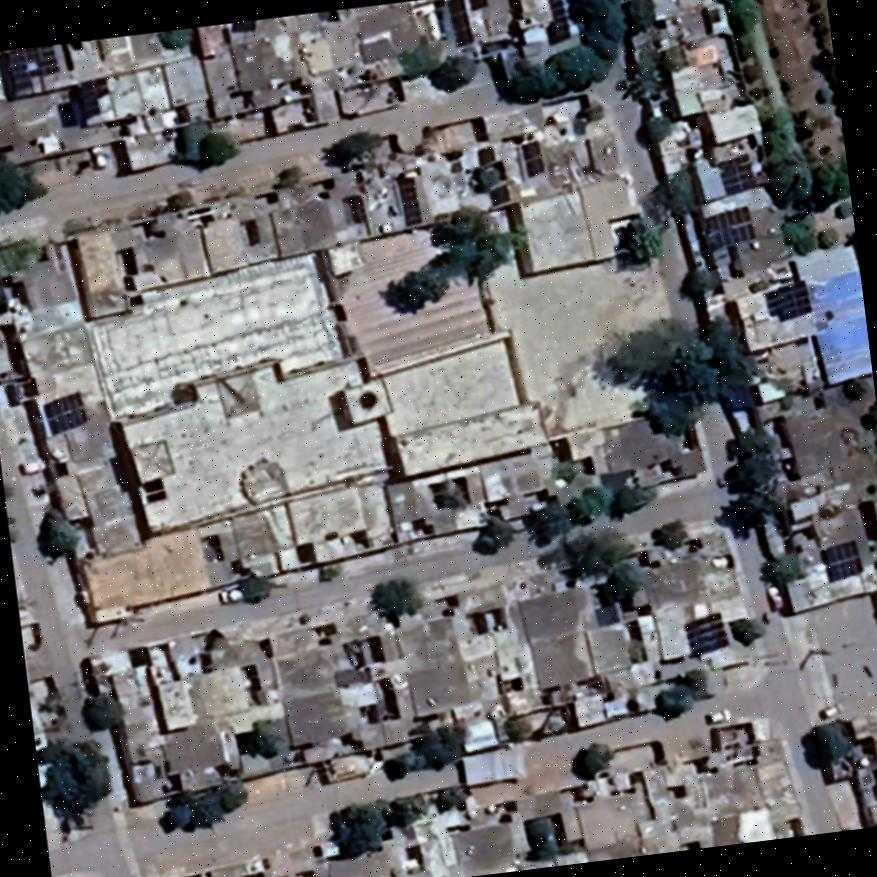Solarpanel: (697, 199, 761, 259), (0, 46, 62, 105), (758, 272, 817, 328), (36, 384, 92, 442), (442, 0, 494, 56), (679, 607, 732, 661), (816, 534, 867, 589), (390, 164, 426, 235), (712, 150, 758, 198), (515, 135, 546, 183)
